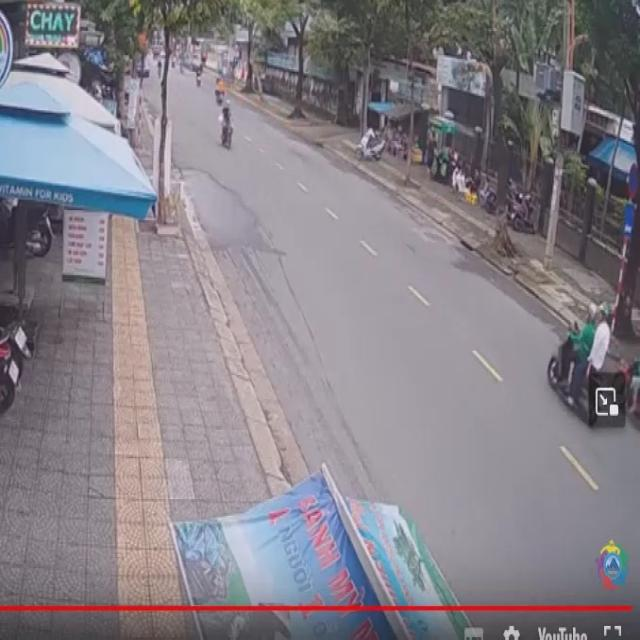motorbike: (547, 306, 610, 428), (218, 106, 237, 150)
